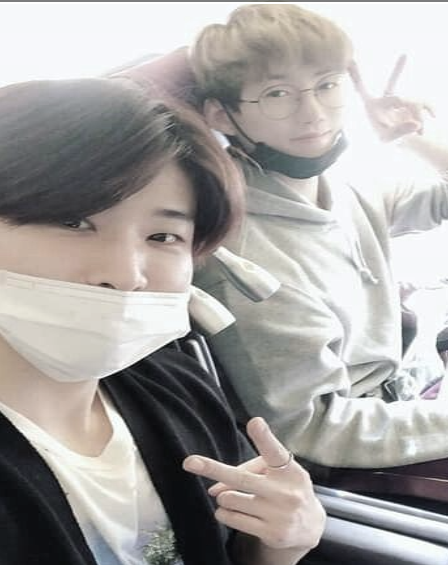mask_weared_incorrect: (1, 79, 220, 386), (193, 5, 361, 180)
